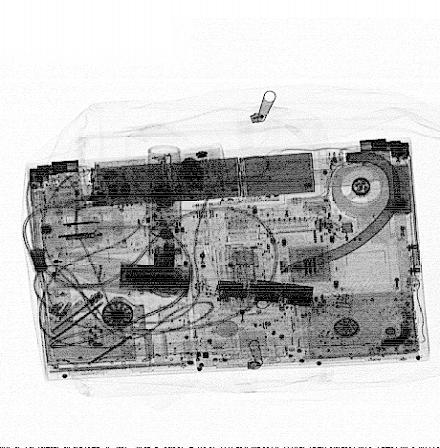Baton: (51, 251, 314, 308)
